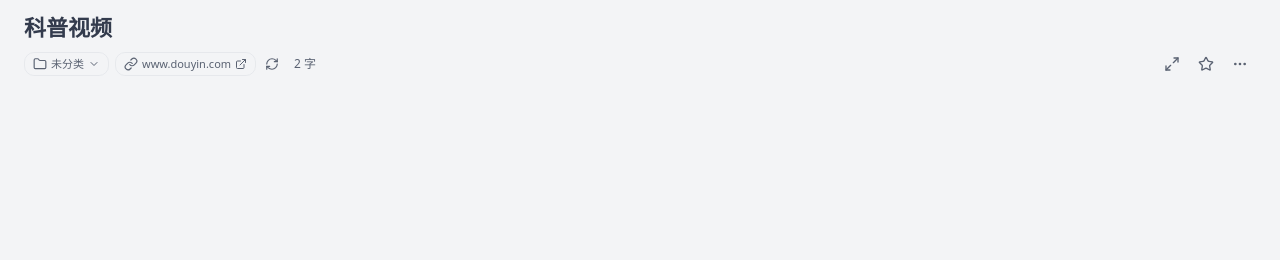
空卡片隐藏，更多菜单打开配置后才采集；成功后保留评论
The image size is (1280, 260).
Expected: the button "来源评论" is not shown
Click the button named "更多操作" at (1240, 64), box [1224,48,1256,80]
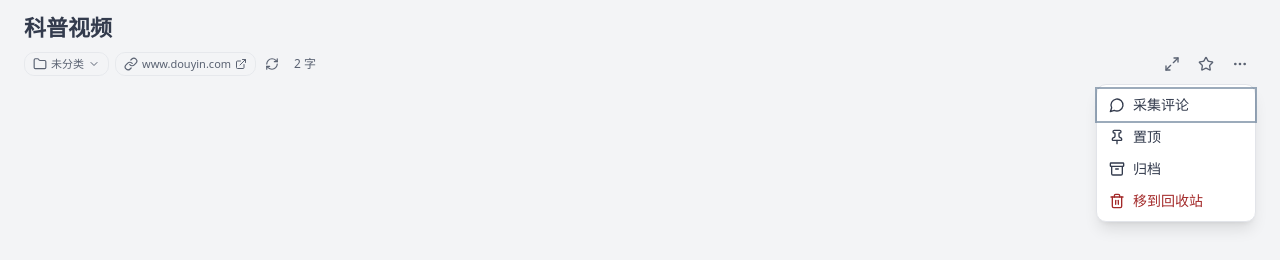
Click the menu item "采集评论" at (1176, 105), box [1097,89,1255,121]
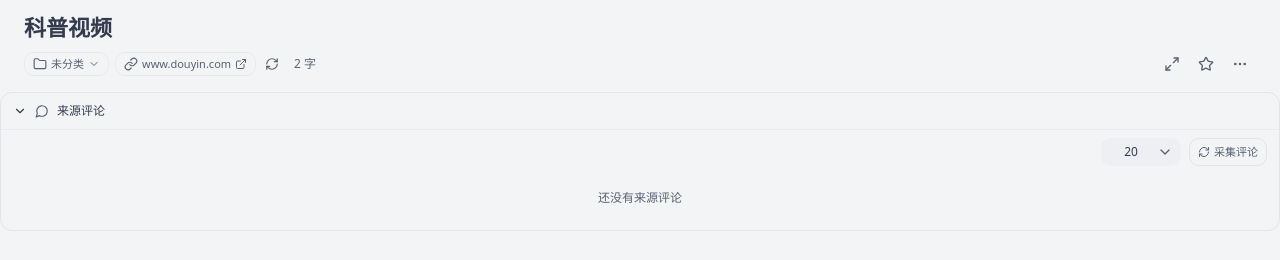
Click the button "采集评论" at (1228, 152), box [1189,138,1267,166]
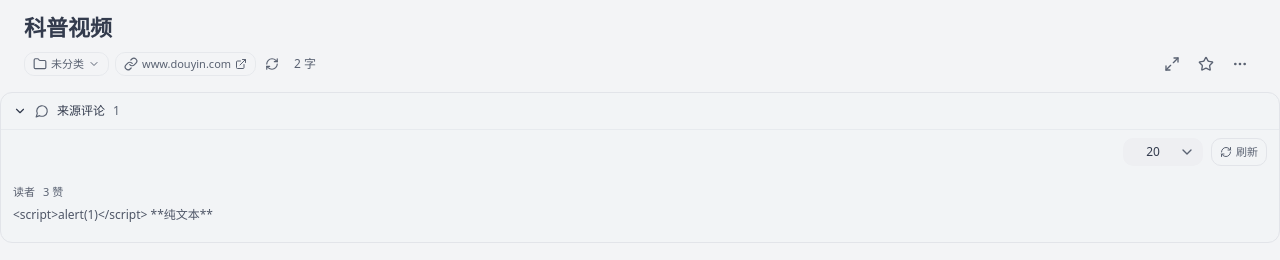
Expected: the text "<script>alert(1)</script> **纯文本**" is shown, [13,206,213,222]
Click the button "来源评论 1" at (81, 110), box [13,103,1267,119]
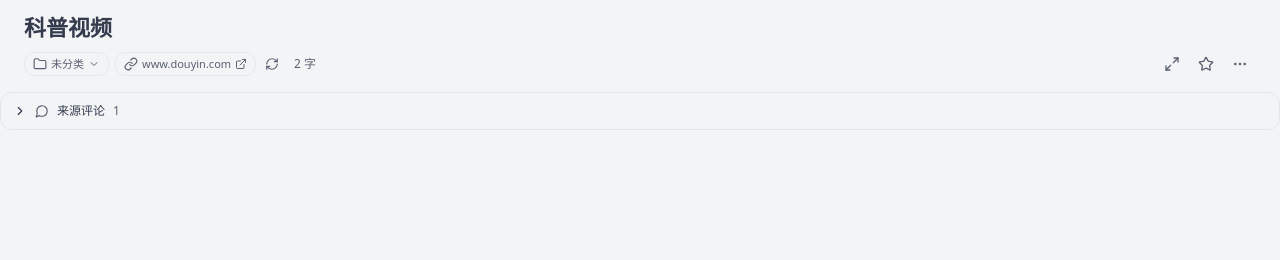
Expected: the button "来源评论 1" is collapsed, [13,103,1267,119]
Expected: the button "刷新" is gone
